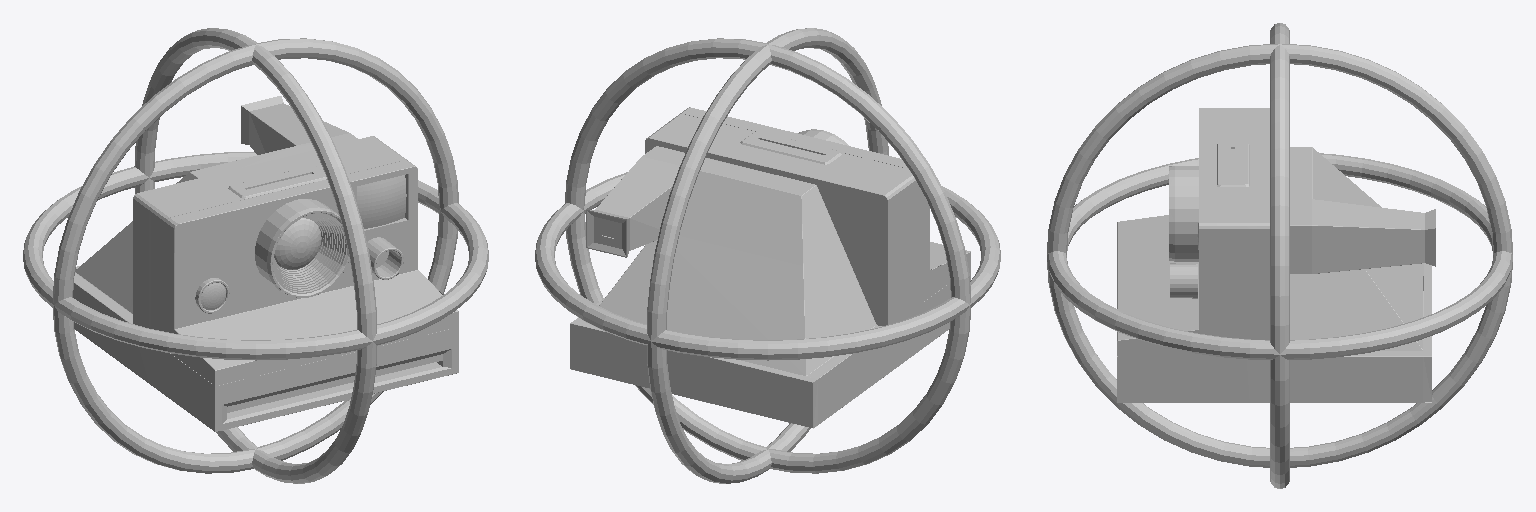
The model's file is Polaroid.obj.
The picture shows the model from 3 angles: view 1: azimuth 30°, elevation 25°; view 2: azimuth 150°, elevation 25°; view 3: azimuth 270°, elevation 25°; orthographic projection.
Parts seen in each view (by area): view 1: Case, Torus, Torus.001, Torus.002, LensRim, ViewFinder, LensGlass, FocusKnob, ShutterButton; view 2: Case, Torus, Torus.002, Torus.001; view 3: Case, Torus.002, Torus.001, Torus, LensRim, FocusKnob.
Part boxes in pixels (bbox=[...]): Case: bbox=[73, 96, 458, 431]; Torus: bbox=[53, 38, 458, 473]; Torus.001: bbox=[23, 152, 488, 360]; Torus.002: bbox=[134, 28, 377, 483]; LensRim: bbox=[255, 199, 349, 297]; ViewFinder: bbox=[357, 175, 406, 228]; LensGlass: bbox=[274, 218, 321, 269]; FocusKnob: bbox=[367, 237, 403, 279]; ShutterButton: bbox=[201, 283, 225, 309]; Case: bbox=[570, 107, 970, 428]; Torus: bbox=[565, 38, 970, 473]; Torus.002: bbox=[646, 28, 888, 483]; Torus.001: bbox=[535, 172, 1000, 360]; Case: bbox=[1117, 108, 1435, 402]; Torus.002: bbox=[1047, 44, 1512, 467]; Torus.001: bbox=[1047, 153, 1512, 359]; Torus: bbox=[1270, 23, 1289, 488]; LensRim: bbox=[1169, 166, 1198, 261]; FocusKnob: bbox=[1170, 263, 1197, 298].
Size of the model in its own units: 1.98 by 1.98 by 1.98.